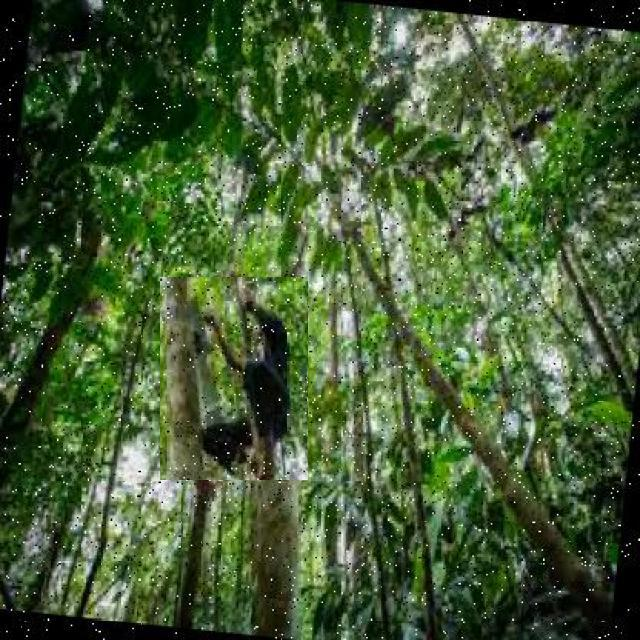poacher: (160, 277, 308, 480)
